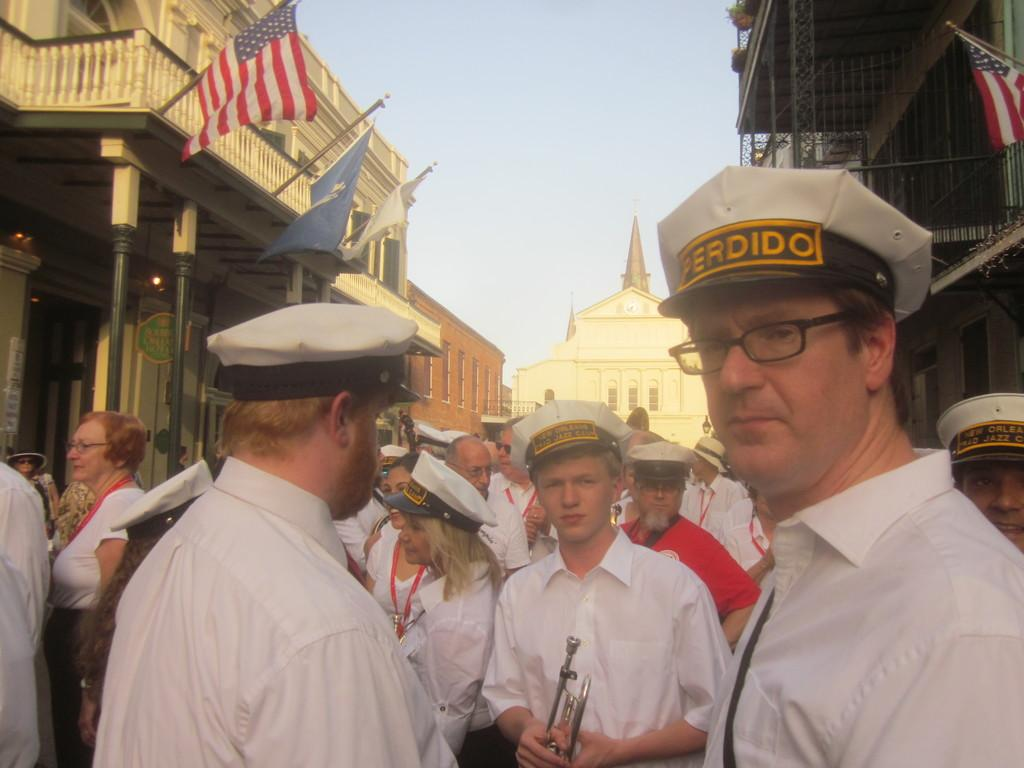Hat: (653, 162, 932, 326), (206, 301, 422, 403), (507, 397, 635, 472), (386, 448, 501, 527), (933, 395, 1023, 463), (398, 423, 470, 464), (624, 444, 696, 480), (686, 436, 728, 474)
